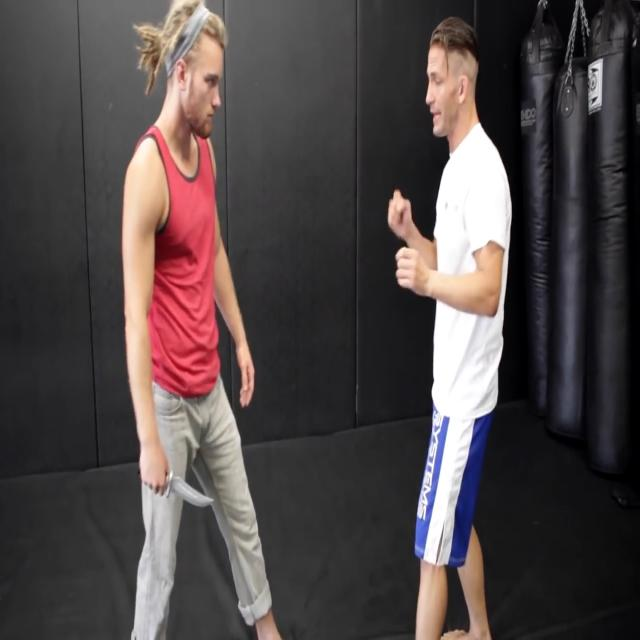knife: (167, 473, 218, 514)
